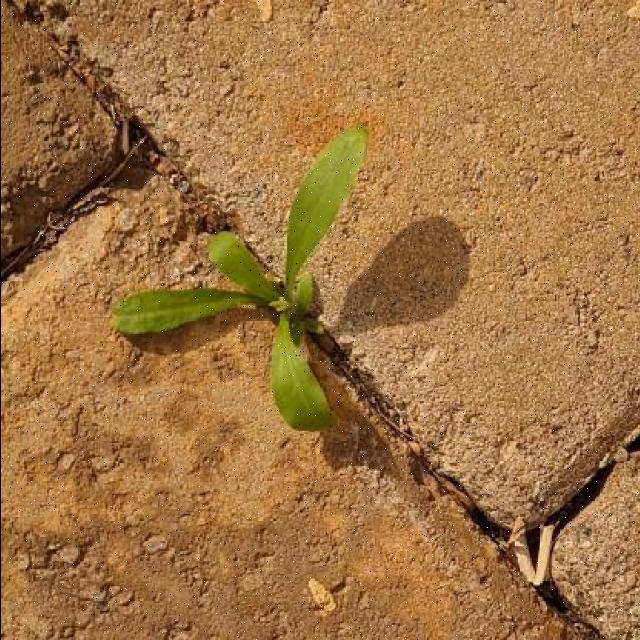weed: (112, 126, 366, 431)
